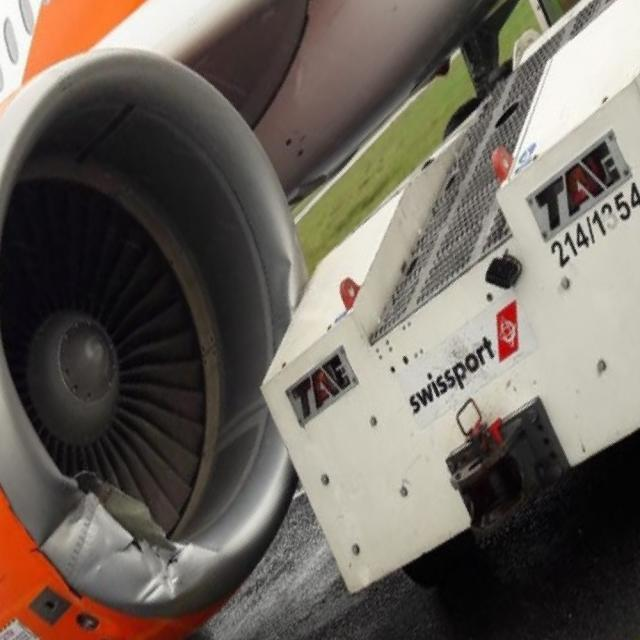crack: (75, 474, 179, 561)
dent: (266, 253, 312, 333), (128, 558, 183, 608), (42, 490, 82, 547)
